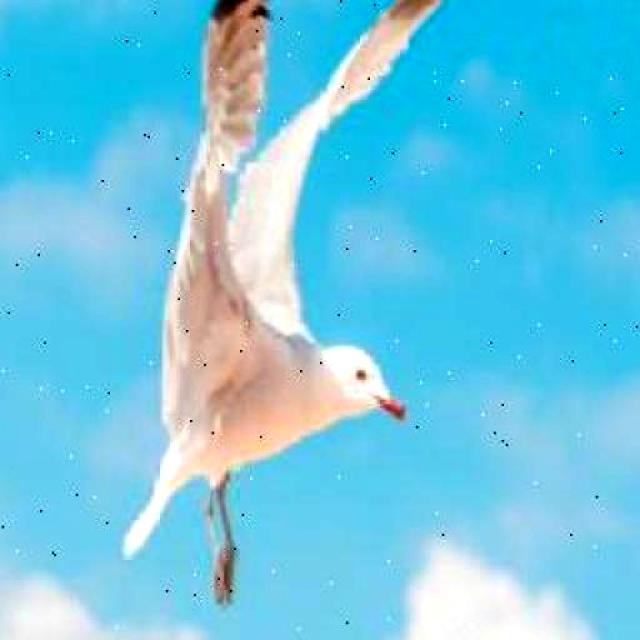airplane: (119, 0, 512, 618)
